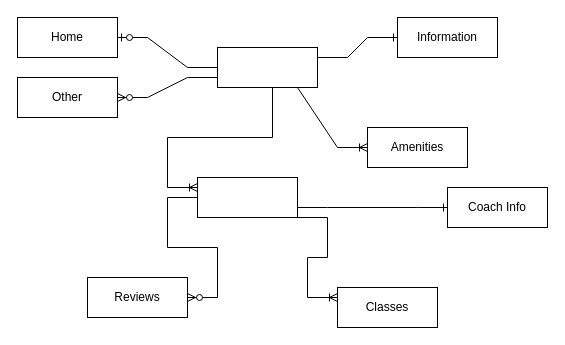
The diagram is 565 pixels wide and 345 high, and some of its shapes have lost their labels. The centre of each missing label's shape, as x and y in pixels:
"Coaches" belongs at point (247, 197).
"Location" belongs at point (267, 67).
